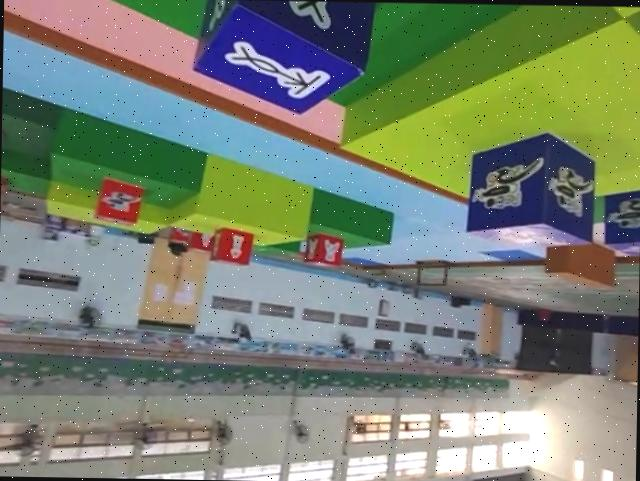R1 Blue: (467, 129, 600, 246), (601, 178, 640, 254)
R2 Real Blue: (197, 0, 376, 110)
